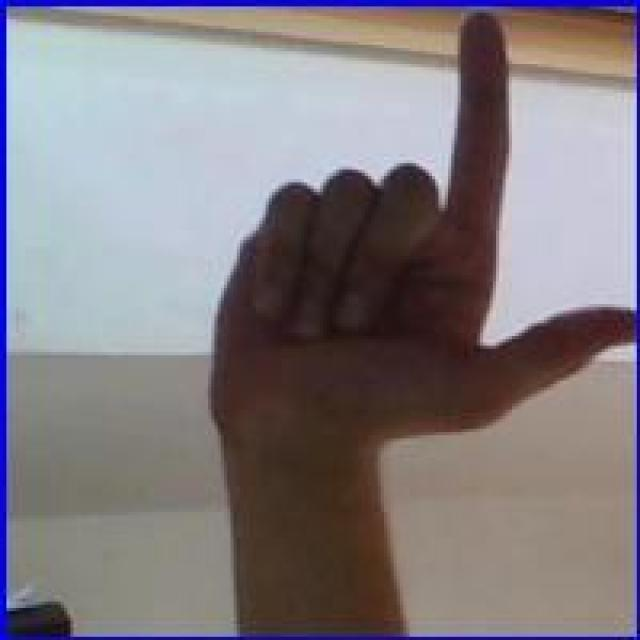L: (203, 7, 632, 506)
